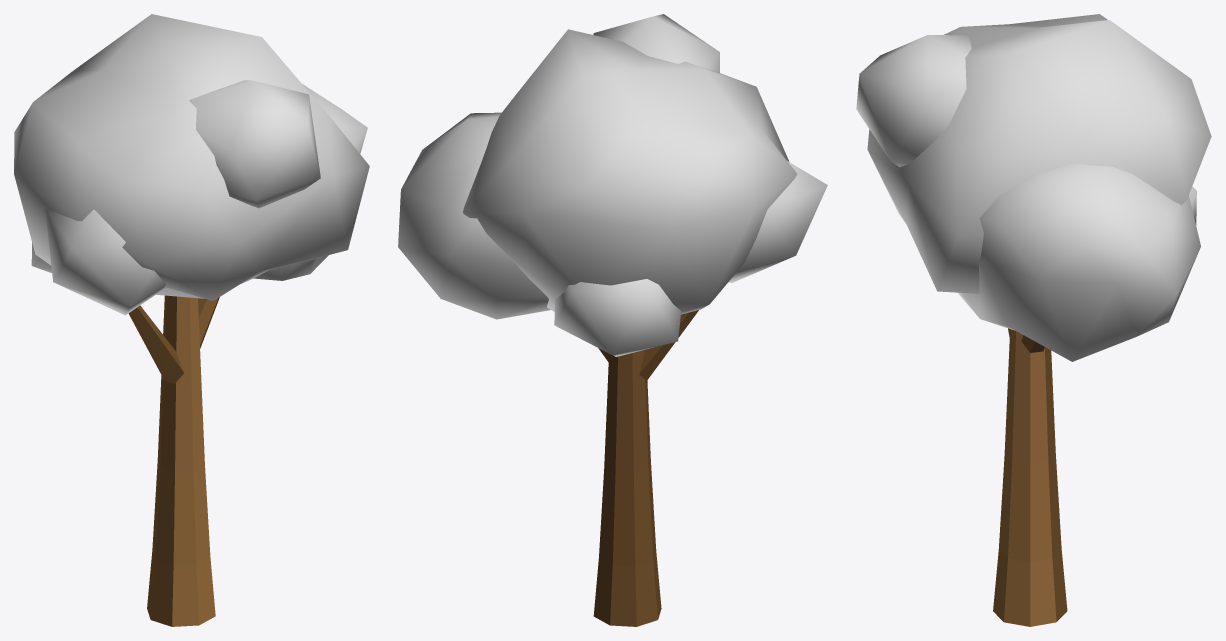
The model's file is tree_oak.glb.
3 renders of one model, left to right at view 1: azimuth 30°, elevation 25°; view 2: azimuth 150°, elevation 25°; view 3: azimuth 270°, elevation 25°, orthographic. The views are drawn at different scales.
Visible parts, largest first — view 1: TreeOak; view 2: TreeOak; view 3: TreeOak.
Boxes of the visible parts, left/top/right/bottom form: TreeOak: left=14, top=14, right=369, bottom=626; TreeOak: left=398, top=14, right=827, bottom=626; TreeOak: left=856, top=14, right=1211, bottom=626.
Bounding box in the file's own units: 3.6 × 5.65 × 3.05.
